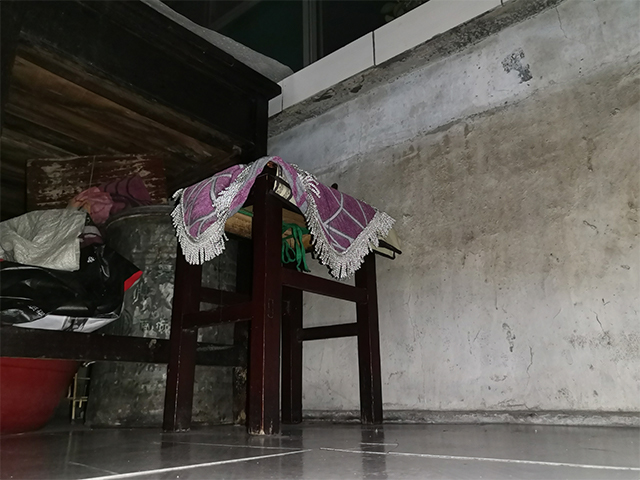stool: (159, 154, 404, 436)
table: (1, 1, 282, 429)
